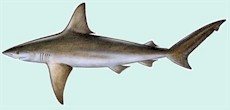shark: (2, 1, 229, 110)
